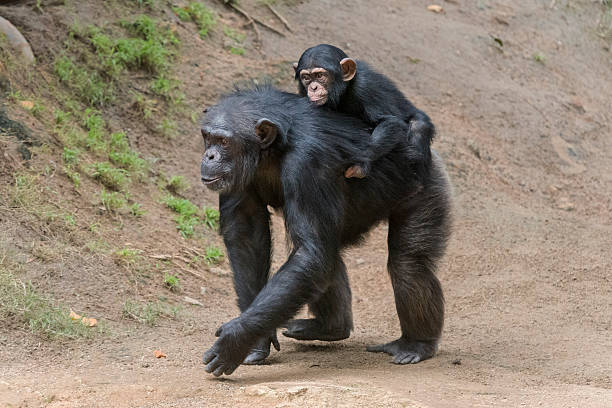chimpanzee: (182, 91, 287, 208), (282, 36, 363, 115)
